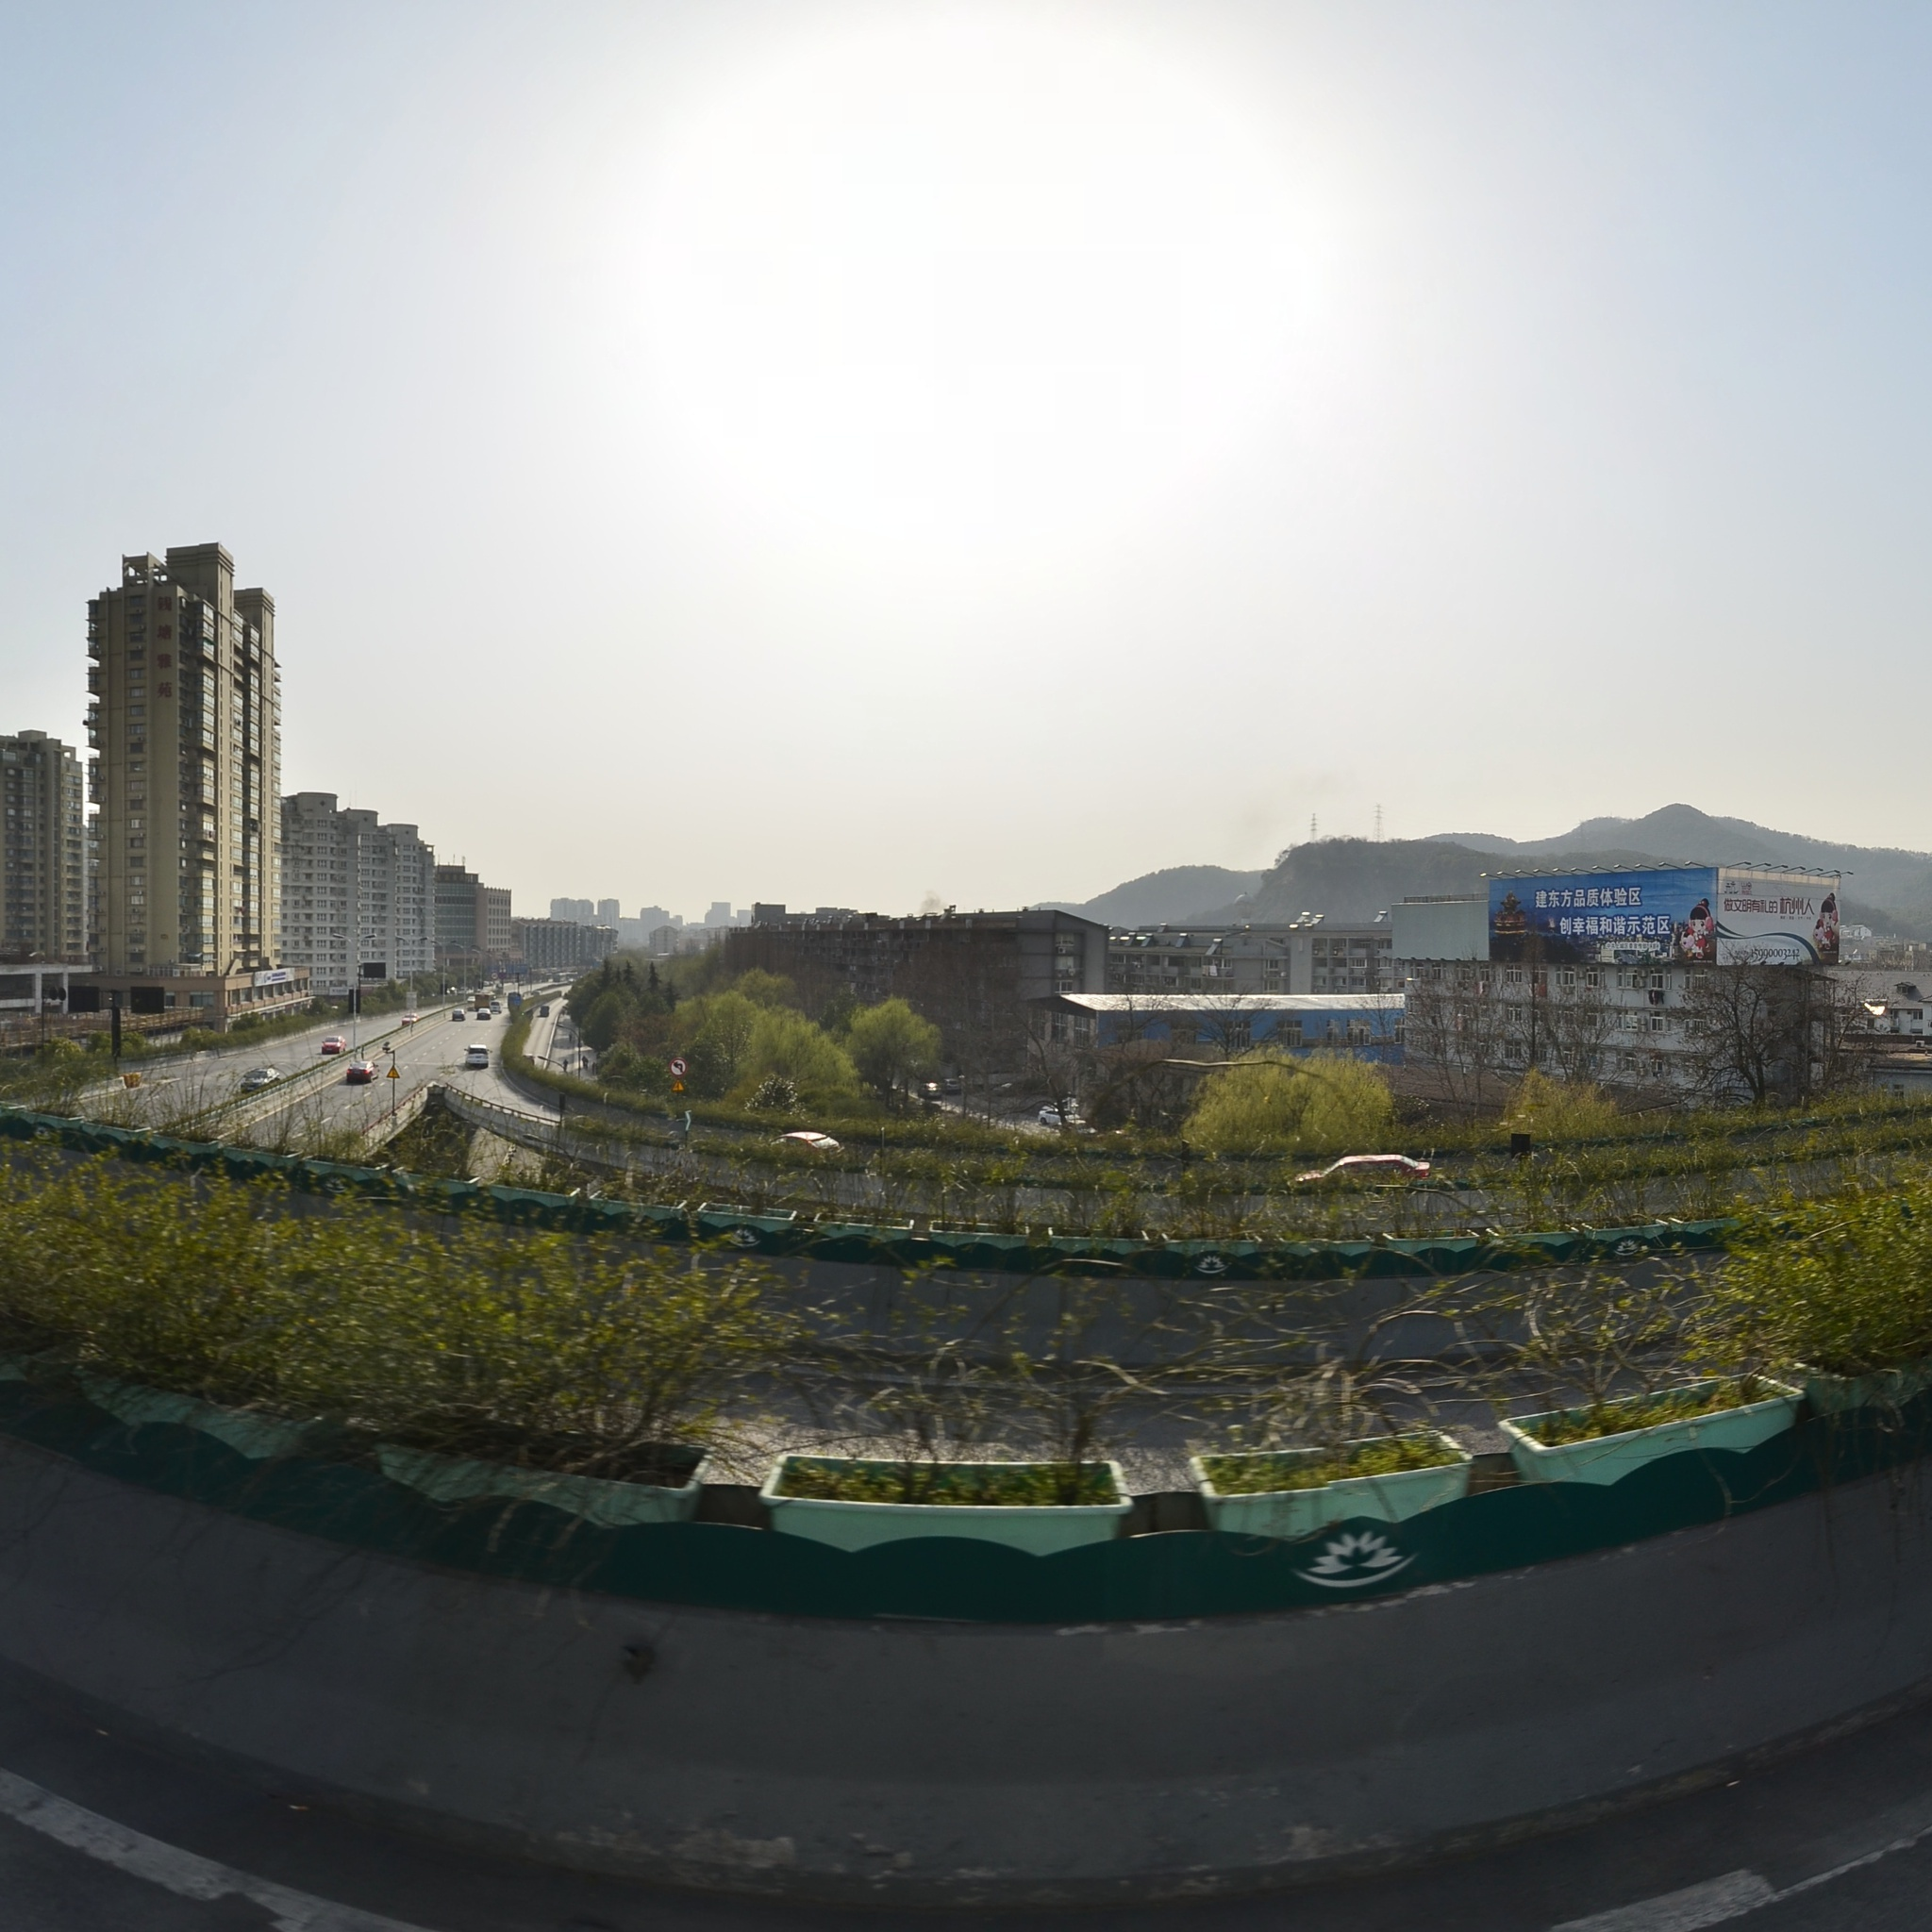traffic_sign: (671, 1054, 686, 1076)
